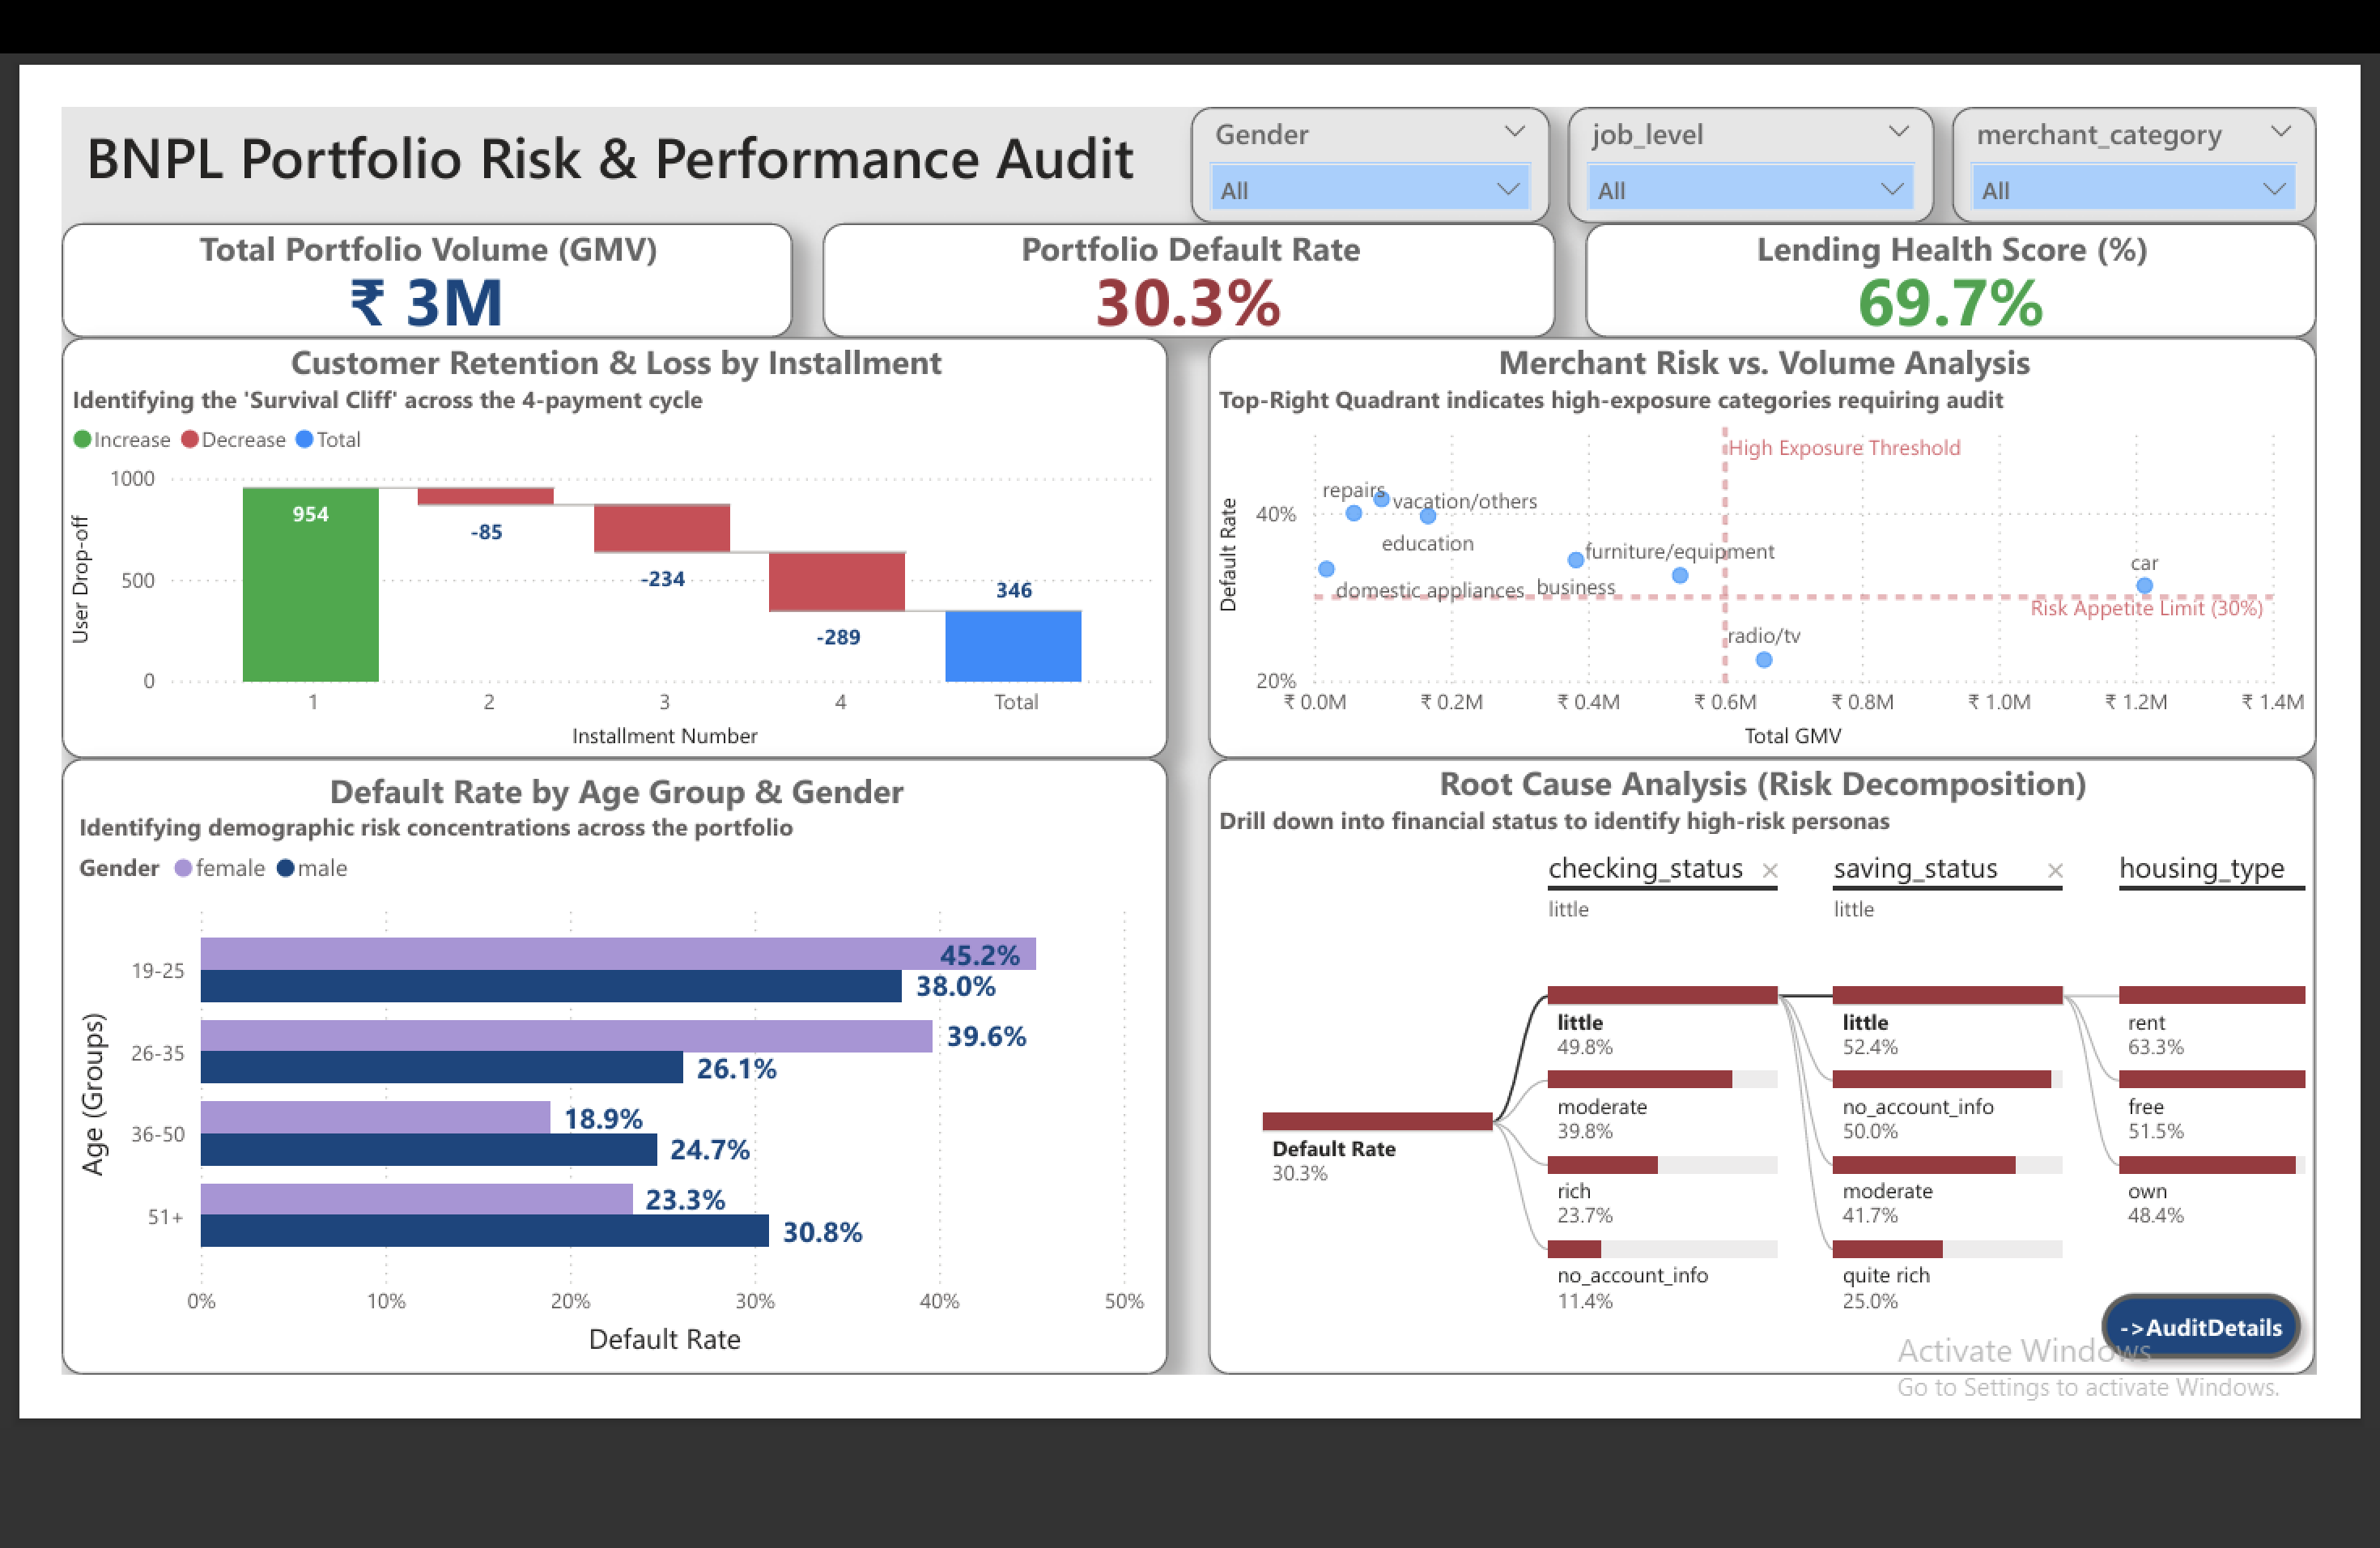

Layout of this report page (visuals, bound fields, positions):
{"tool":"powerbi","page":{"name":"BNPLPortfolio","canvas":[1280,720],"ordinal":0},"visuals":[{"type":"textbox","box":[9.4,0,608.3,55.2],"z":0},{"type":"slicer","fields":{"Values":["dim_users.gender"]},"box":[640.6,0,204.6,65.9],"z":1000},{"type":"slicer","fields":{"Values":["dim_users.job_level"]},"box":[855.3,0,207.3,65.9],"z":2000},{"type":"slicer","fields":{"Values":["fact_loans.merchant_category"]},"box":[1072.6,0,207.3,65.9],"z":3000},{"type":"card","title":"Total Portfolio Volume (GMV) ","fields":{"Values":["_Measures.Total GMV"]},"box":[0,65.9,414.5,64.6],"z":4000},{"type":"card","title":"Portfolio Default Rate ","fields":{"Values":["_Measures.Default Rate"]},"box":[432,65.9,415.9,64.6],"z":5000},{"type":"card","title":"Lending Health Score (%)","fields":{"Values":["_Measures.Lending Health %"]},"box":[865.3,65.9,414.5,64.6],"z":6000},{"type":"waterfallChart","title":"Customer Retention & Loss by Installment","fields":{"Y":["_Measures.Payment Drop-off"],"Category":["fact_installments.payment_number"]},"box":[0,130.5,628.5,239.6],"z":7000},{"type":"scatterChart","title":"Merchant Risk vs. Volume Analysis","fields":{"Category":["fact_loans.merchant_category"],"X":["_Measures.Total GMV"],"Y":["_Measures.Default Rate"]},"box":[651.4,130.5,628.5,239.6],"z":8000},{"type":"clusteredBarChart","title":"Default Rate by Age Group & Gender","fields":{"Category":["dim_users.Age (Groups)"],"Y":["_Measures.Default Rate"],"Series":["dim_users.gender"]},"box":[0,370.1,628.5,349.9],"z":9000},{"type":"decompositionTreeVisual","title":"Root Cause Analysis (Risk Decomposition)","fields":{"Analyze":["_Measures.Default Rate"],"ExplainBy":["dim_accounts.checking_status","dim_accounts.saving_status","dim_users.housing_type"]},"box":[651.4,370.1,627.1,349.9],"z":10000},{"type":"actionButton","box":[1149.3,664.8,130.5,55.2],"z":10001}]}

Visuals, with their boxes on the page's 1280x720 design canvas (x1, y1, x2, y2). These are canvas units, not pixel positions in the 2380x1548 screenshot, which may show the page scaled, cropped or inside an application window:
textbox: [left=9, top=0, right=618, bottom=55]
slicer - dim_users.gender: [left=641, top=0, right=845, bottom=66]
slicer - dim_users.job_level: [left=855, top=0, right=1063, bottom=66]
slicer - fact_loans.merchant_category: [left=1073, top=0, right=1280, bottom=66]
"Total Portfolio Volume (GMV) " card: [left=0, top=66, right=414, bottom=130]
"Portfolio Default Rate " card: [left=432, top=66, right=848, bottom=130]
"Lending Health Score (%)" card: [left=865, top=66, right=1280, bottom=130]
"Customer Retention & Loss by Installment" waterfallChart: [left=0, top=130, right=628, bottom=370]
"Merchant Risk vs. Volume Analysis" scatterChart: [left=651, top=130, right=1280, bottom=370]
"Default Rate by Age Group & Gender" clusteredBarChart: [left=0, top=370, right=628, bottom=720]
"Root Cause Analysis (Risk Decomposition)" decompositionTreeVisual: [left=651, top=370, right=1278, bottom=720]
actionButton: [left=1149, top=665, right=1280, bottom=720]
